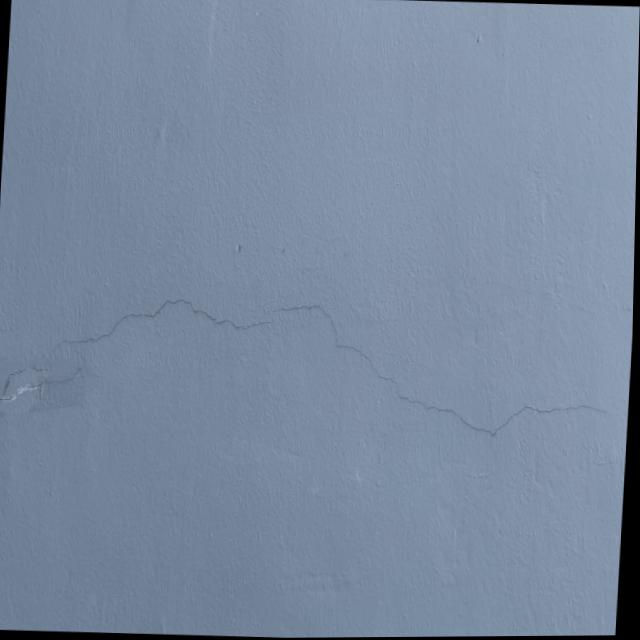Crack: (0, 277, 635, 438)
